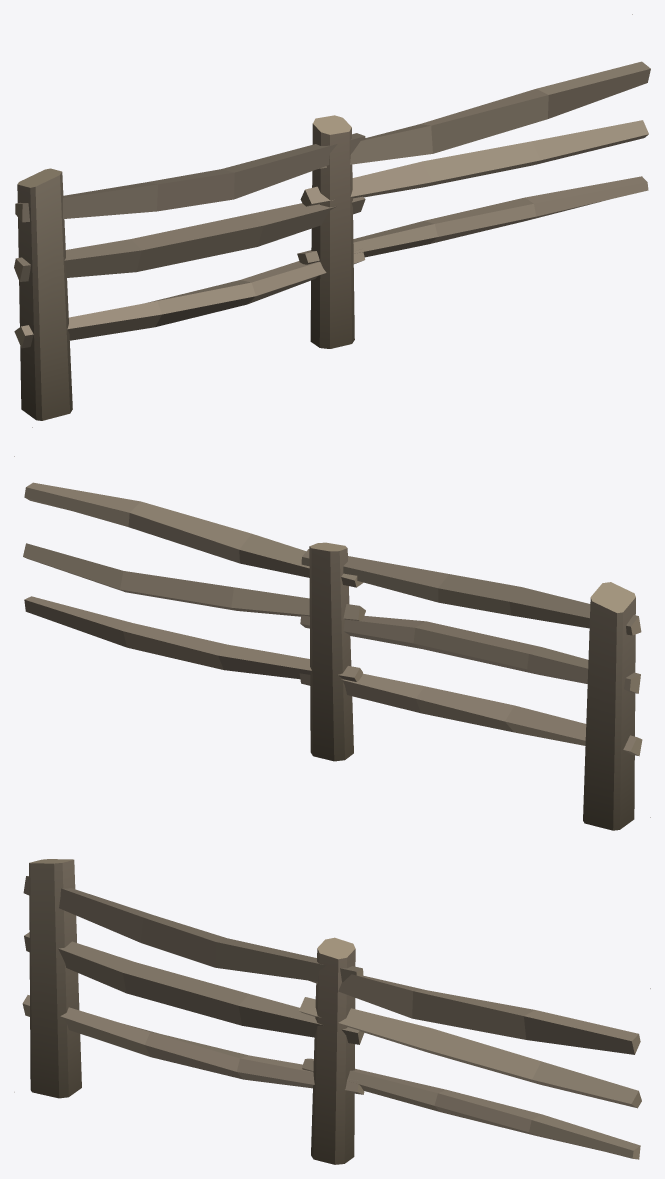
The model's file is CreekFenceSection1_wood.glb.
3 views of the same model, one above another, from view 1: azimuth 30°, elevation 25°; view 2: azimuth 150°, elevation 25°; view 3: azimuth 330°, elevation 25° (orthographic). The views are drawn at different scales.
Parts seen in each view (by area): view 1: CreekFenceSection1_wood; view 2: CreekFenceSection1_wood; view 3: CreekFenceSection1_wood.
Boxes of the visible parts, x1,y1,x2,y2 form: CreekFenceSection1_wood: (14, 14, 650, 427); CreekFenceSection1_wood: (14, 456, 650, 830); CreekFenceSection1_wood: (14, 859, 650, 1164).
Size of the model in its own units: 11.04 by 4.01 by 0.8619.
